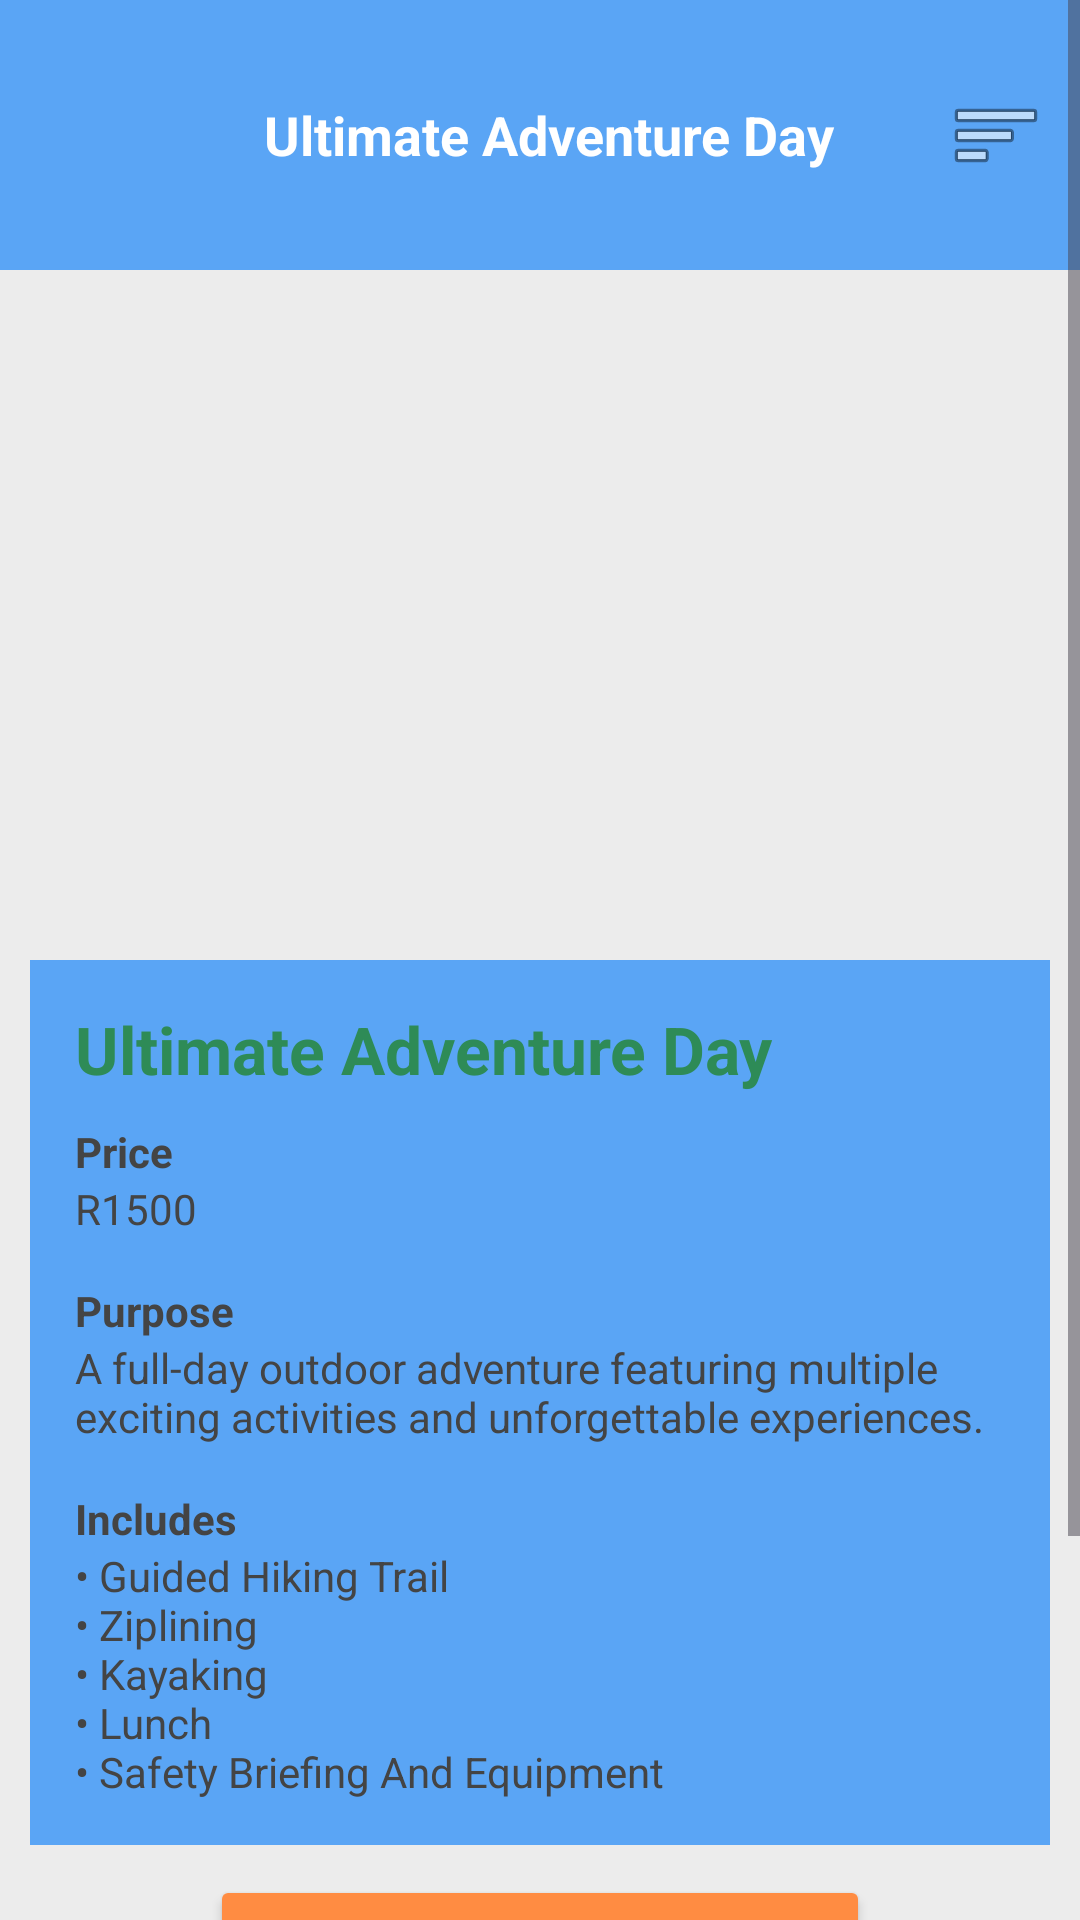

Named icons in this screenshot (1080w x 1920h) and their bounding boxes, (x1, y1, x2, y2):
sort by size: (955, 109, 1037, 162)
